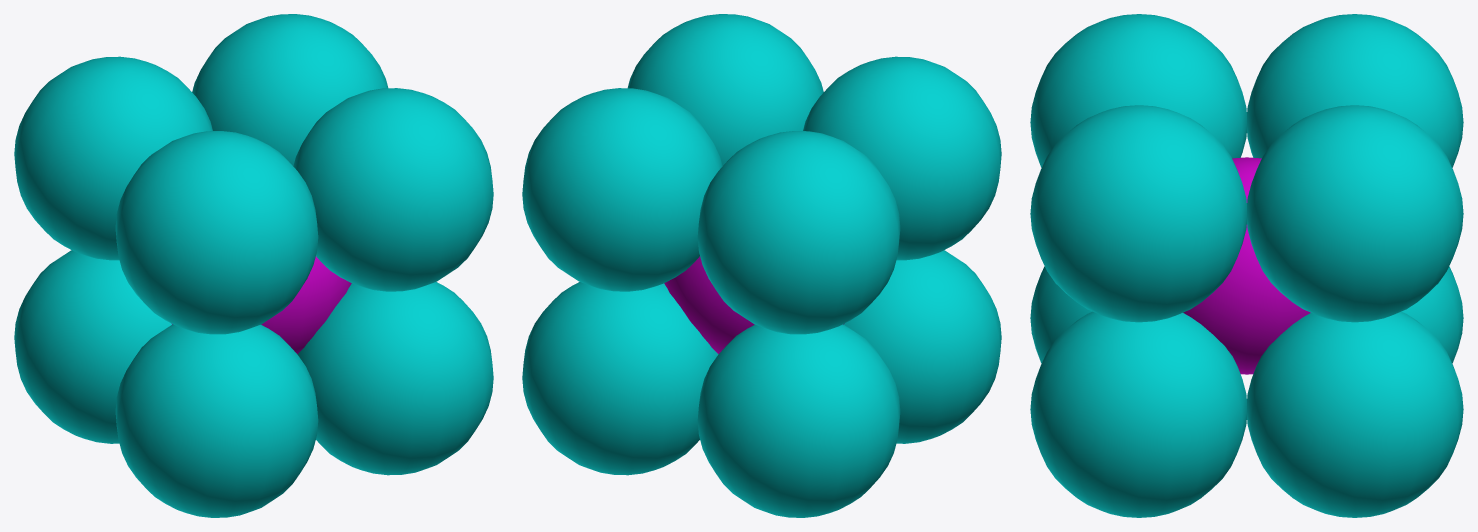
File: cscl_centrado.glb
3 renders of one model, left to right at view 1: azimuth 30°, elevation 25°; view 2: azimuth 150°, elevation 25°; view 3: azimuth 270°, elevation 25°, orthographic. The views are drawn at different scales.
Parts seen in each view (by area): view 1: atomo9; view 2: atomo9; view 3: atomo9.
Part boxes in pixels (x1,y1,x2,y2): atomo9: (14, 14, 493, 517); atomo9: (522, 14, 1001, 517); atomo9: (1030, 14, 1463, 517).
Size of the model in its own units: 2.01 by 2.01 by 2.01.
